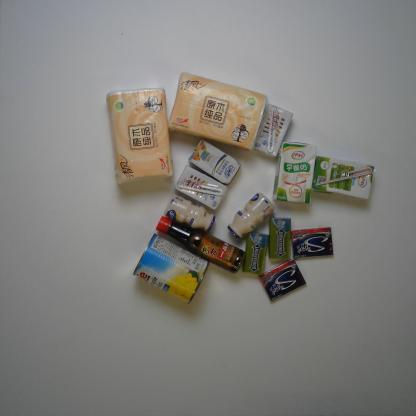Canned Food: (130, 231, 214, 307)
Gum: (256, 257, 309, 303), (290, 225, 335, 262), (241, 228, 271, 277), (268, 215, 294, 262)
Milk: (309, 152, 378, 204), (271, 139, 318, 206), (187, 138, 243, 186), (174, 165, 230, 211), (226, 191, 277, 241), (252, 102, 295, 160), (162, 192, 218, 233)
Seasoner: (154, 214, 247, 276)
Tissue: (167, 70, 269, 152), (105, 86, 176, 186)
